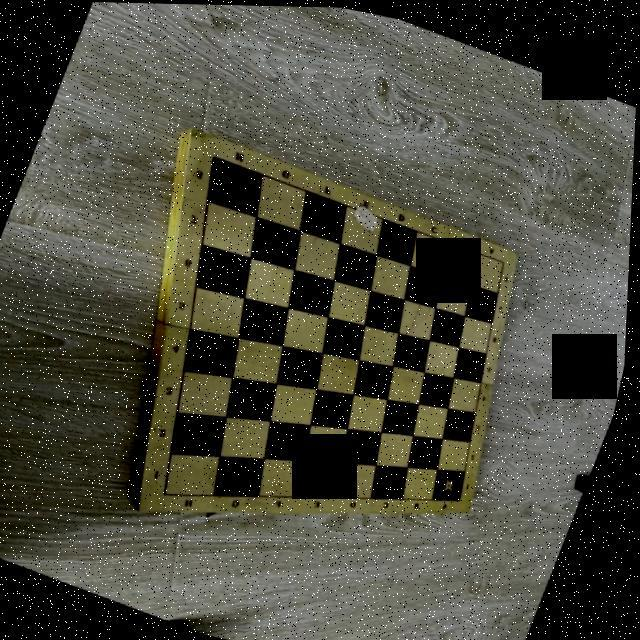chess-table-corners: (162, 486, 176, 498), (208, 149, 220, 160), (501, 254, 511, 262), (461, 493, 468, 500)
